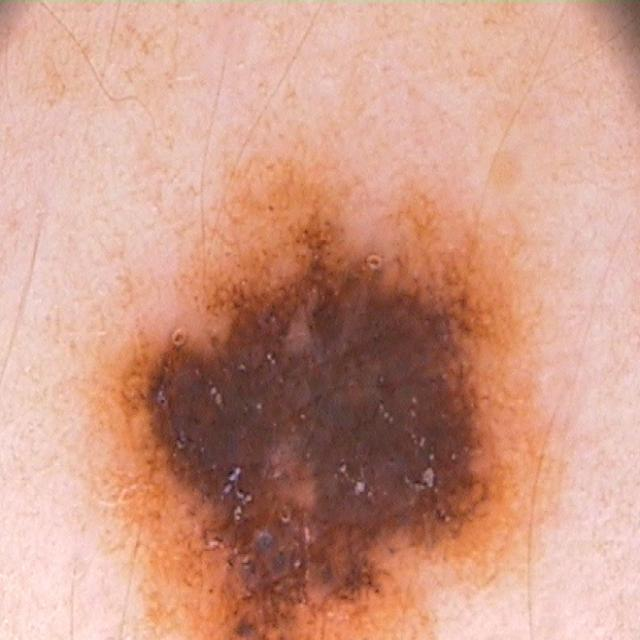Melanoma: (107, 180, 549, 640)
